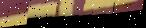scratch: (27, 0, 117, 25)
